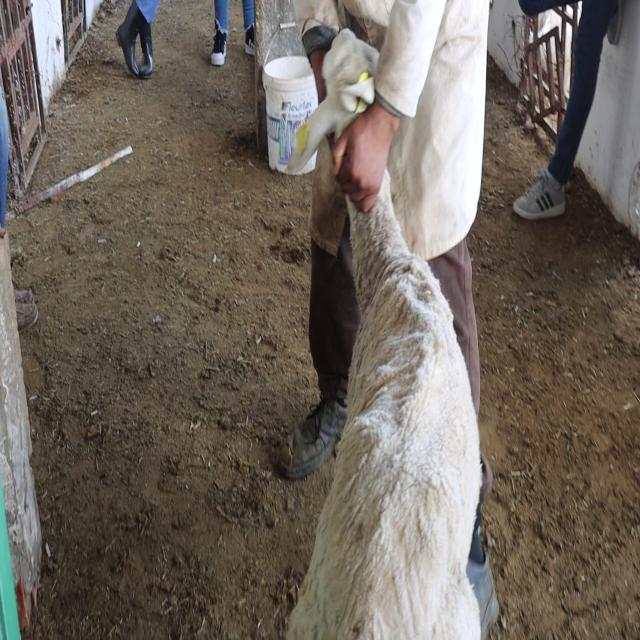Score_1: (286, 168, 481, 639)
